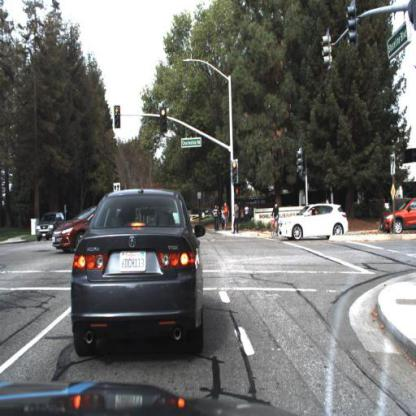car: (71, 187, 206, 357), (277, 201, 352, 244), (53, 209, 96, 248), (379, 199, 416, 235)
pedestrian: (221, 202, 232, 231), (229, 200, 240, 227), (224, 203, 231, 231), (214, 204, 219, 231), (220, 206, 226, 228)
trafficLight-Red: (160, 107, 167, 134), (232, 158, 239, 183)
trafficLight-RedLeft: (114, 103, 122, 128)
